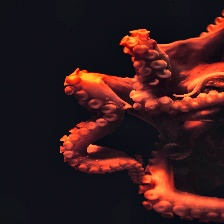octopus: (59, 22, 224, 221)
